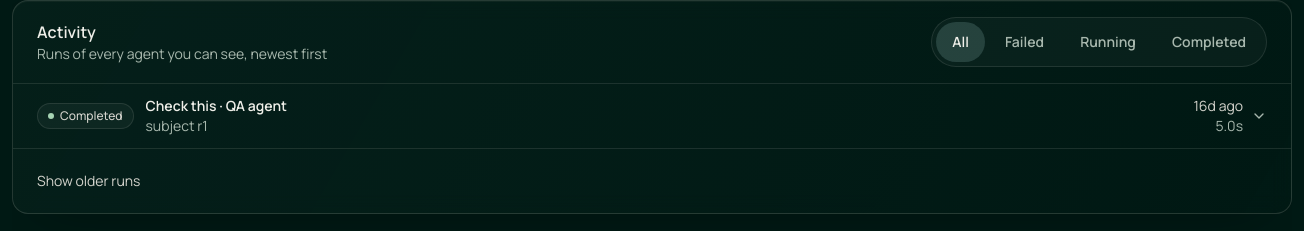
activity feed › drops an older page that lands after the filter changed
Click the button "Show older runs" at {"x": 89, "y": 181}, box [29,161,148,201]
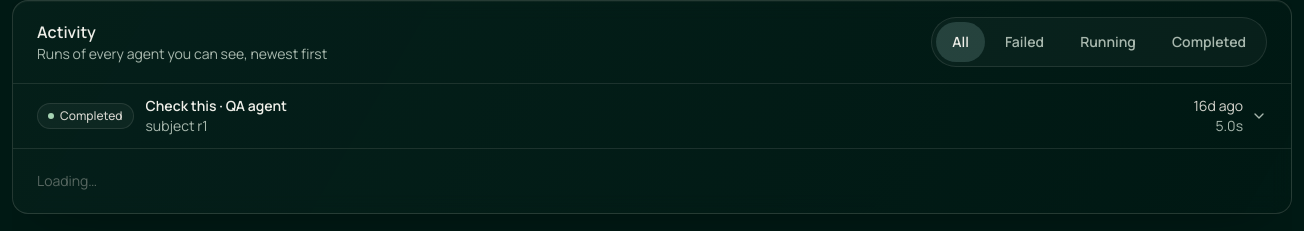
Click the button "Failed" at {"x": 1024, "y": 42}, box [989,22,1060,62]
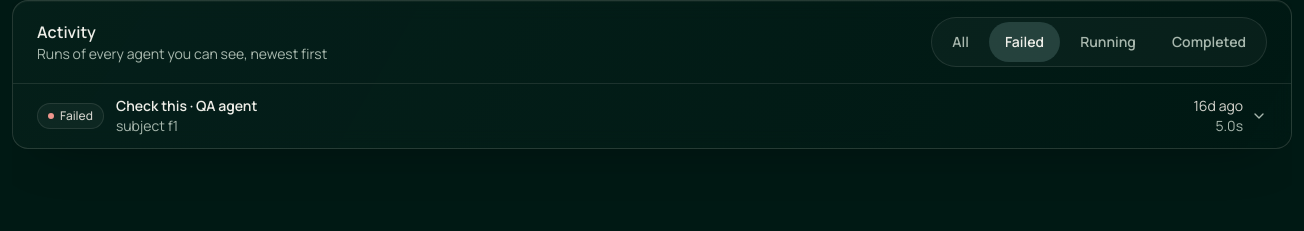
Now the text "subject f1" is shown, box [116,116,178,135]
